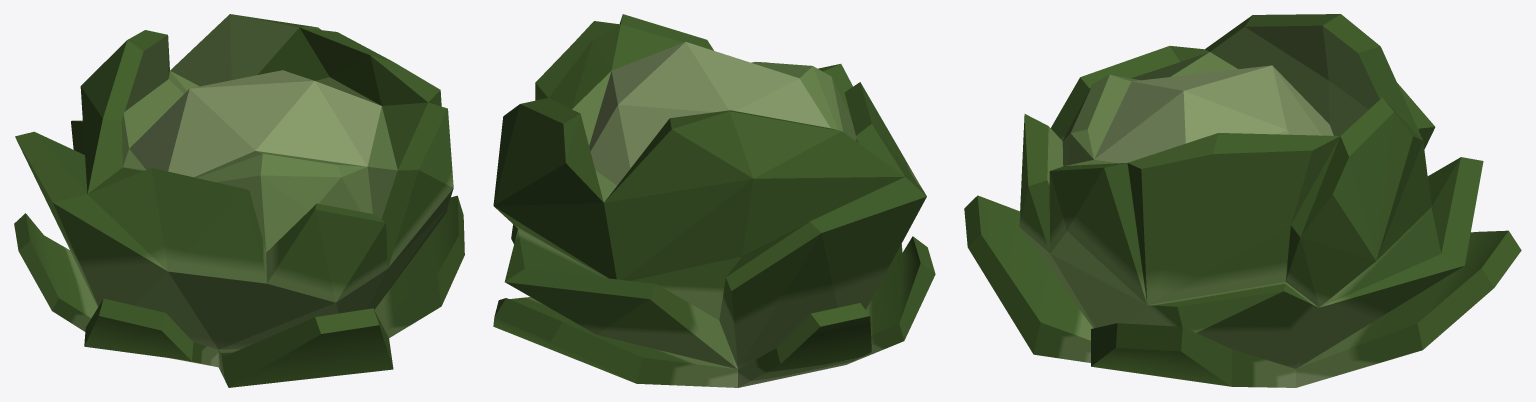
Rendered from cabbage_plant.glb.
3 renders of one model, left to right at view 1: azimuth 30°, elevation 25°; view 2: azimuth 150°, elevation 25°; view 3: azimuth 270°, elevation 25°, orthographic. The views are drawn at different scales.
Visible parts, largest first — view 1: SM_Prop_Cabbage_01_L; view 2: SM_Prop_Cabbage_01_L; view 3: SM_Prop_Cabbage_01_L.
Boxes of the visible parts, left/top/right/bottom form: SM_Prop_Cabbage_01_L: left=14, top=14, right=464, bottom=387; SM_Prop_Cabbage_01_L: left=493, top=14, right=935, bottom=387; SM_Prop_Cabbage_01_L: left=964, top=14, right=1521, bottom=387.
Size of the model in its own units: 0.4375 by 0.2896 by 0.4985.
Materials: 1 (1 with a texture image).
